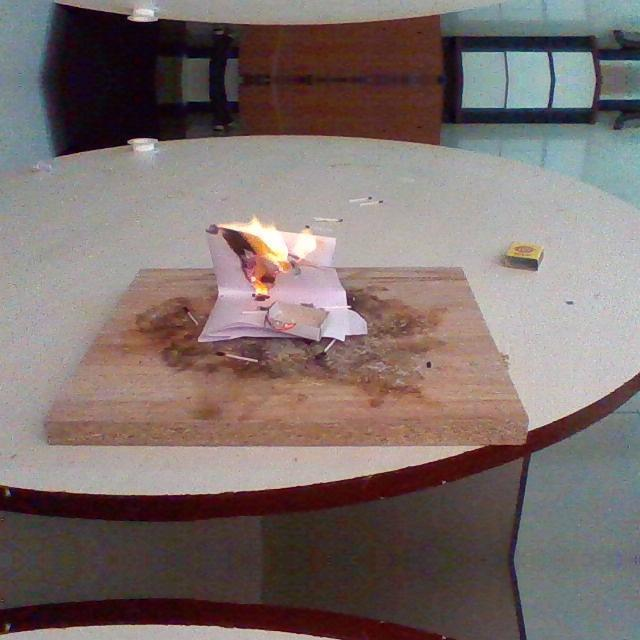smoke: (218, 213, 320, 263)
